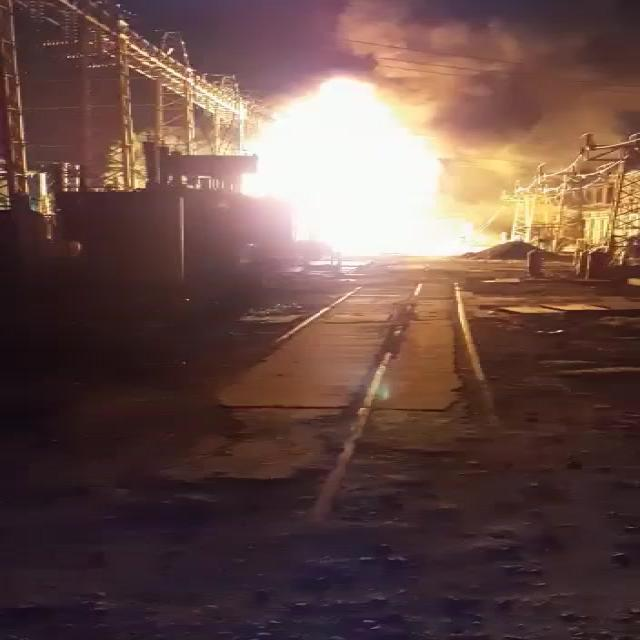Fire: (210, 64, 468, 261)
Smoke: (340, 6, 610, 118)
